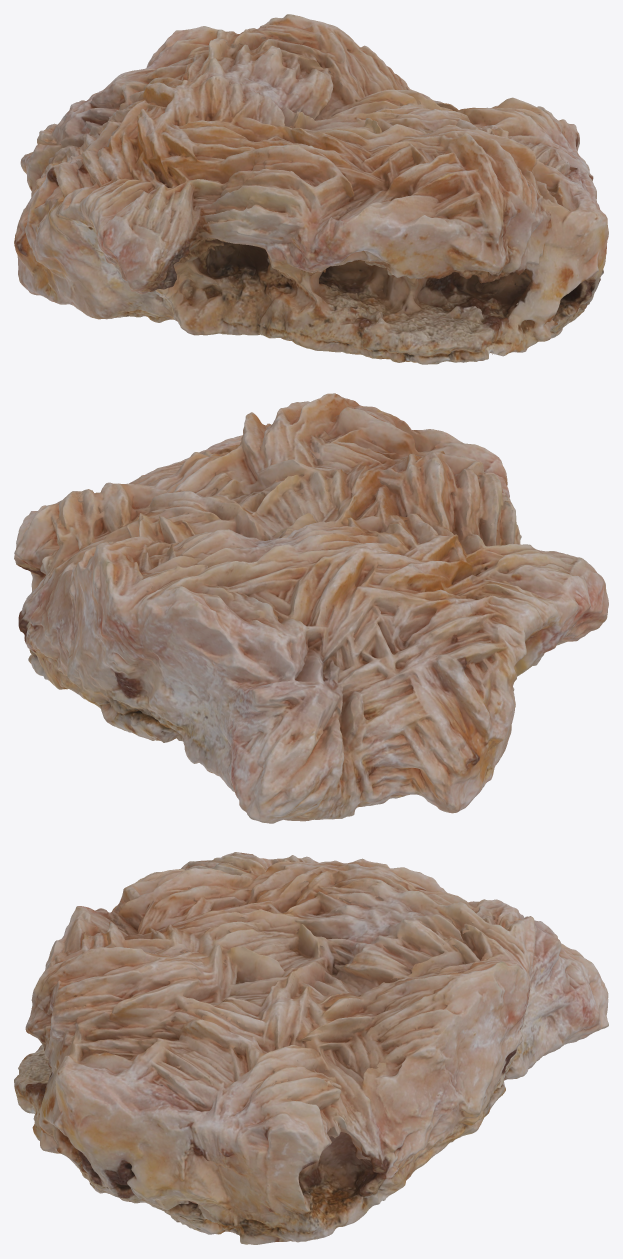
The model's file is baritina.glb.
The picture shows the model from 3 angles, top to bottom: view 1: azimuth 30°, elevation 25°; view 2: azimuth 150°, elevation 25°; view 3: azimuth 270°, elevation 25°; orthographic projection. The views are drawn at different scales.
Visible parts, largest first — view 1: Model; view 2: Model; view 3: Model.
Boxes of the visible parts, x1=… form: Model: x1=14, y1=14, x2=608, y2=364; Model: x1=14, y1=393, x2=608, y2=823; Model: x1=14, y1=852, x2=608, y2=1244.
Size of the model in its own units: 1.28 by 0.5824 by 1.31.
1 material, 1 textured.
